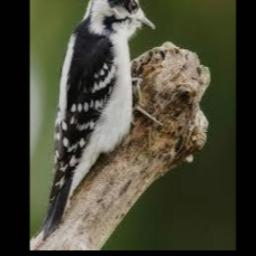Woodpecker: (35, 0, 164, 240)
